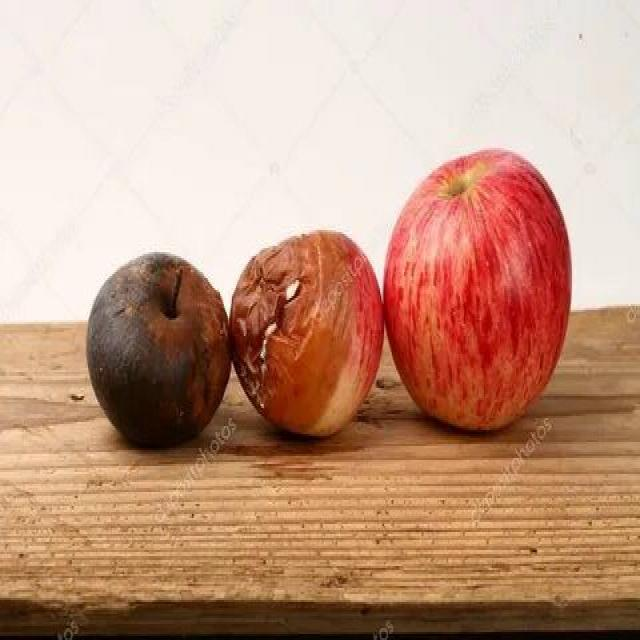fresh_apple: (382, 148, 571, 430)
rotten_apple: (233, 233, 383, 435), (89, 255, 230, 451)
